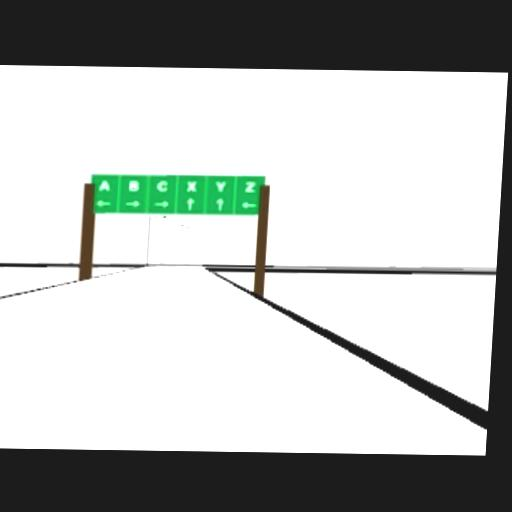A: (98, 178, 111, 190)
B: (128, 178, 141, 190)
C: (154, 178, 168, 191)
Left: (95, 198, 111, 206), (240, 199, 256, 206)
Right: (123, 198, 141, 206), (154, 198, 169, 205)
Straight: (184, 195, 195, 209), (214, 196, 223, 209)
X: (185, 179, 198, 191)
Y: (213, 178, 226, 191)
Z: (243, 180, 256, 192)
